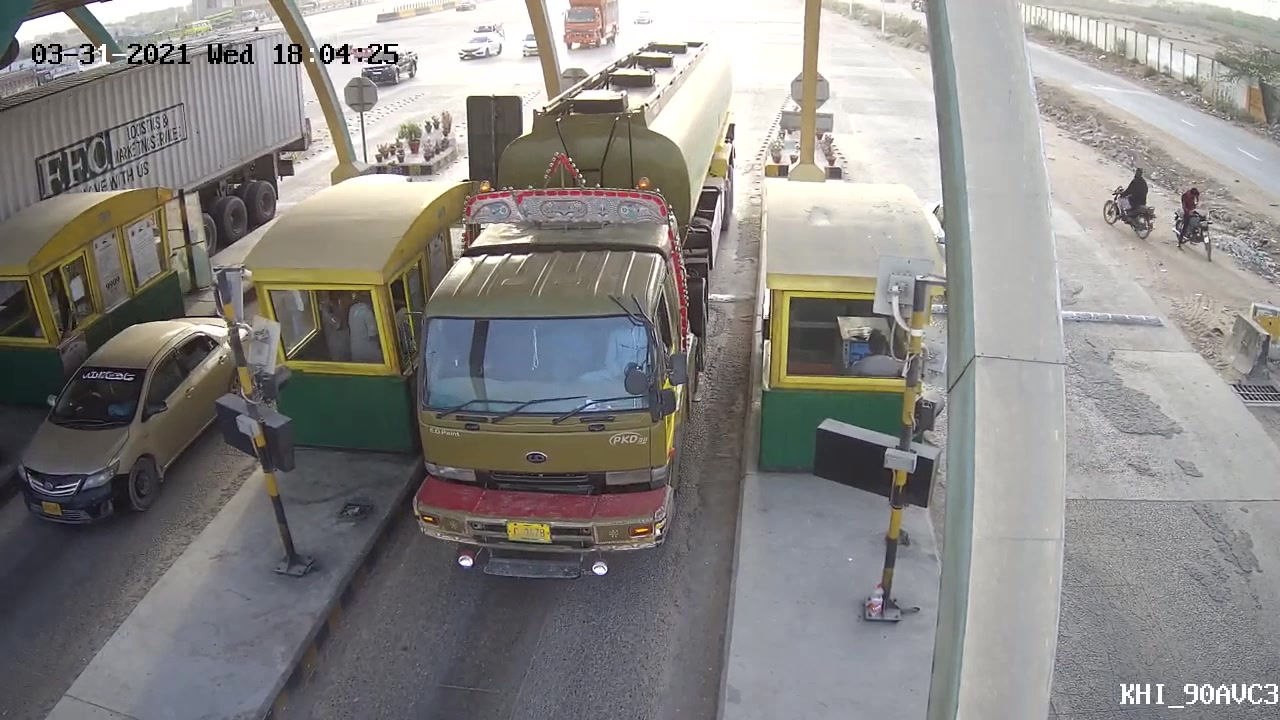F6: (386, 90, 745, 594)
